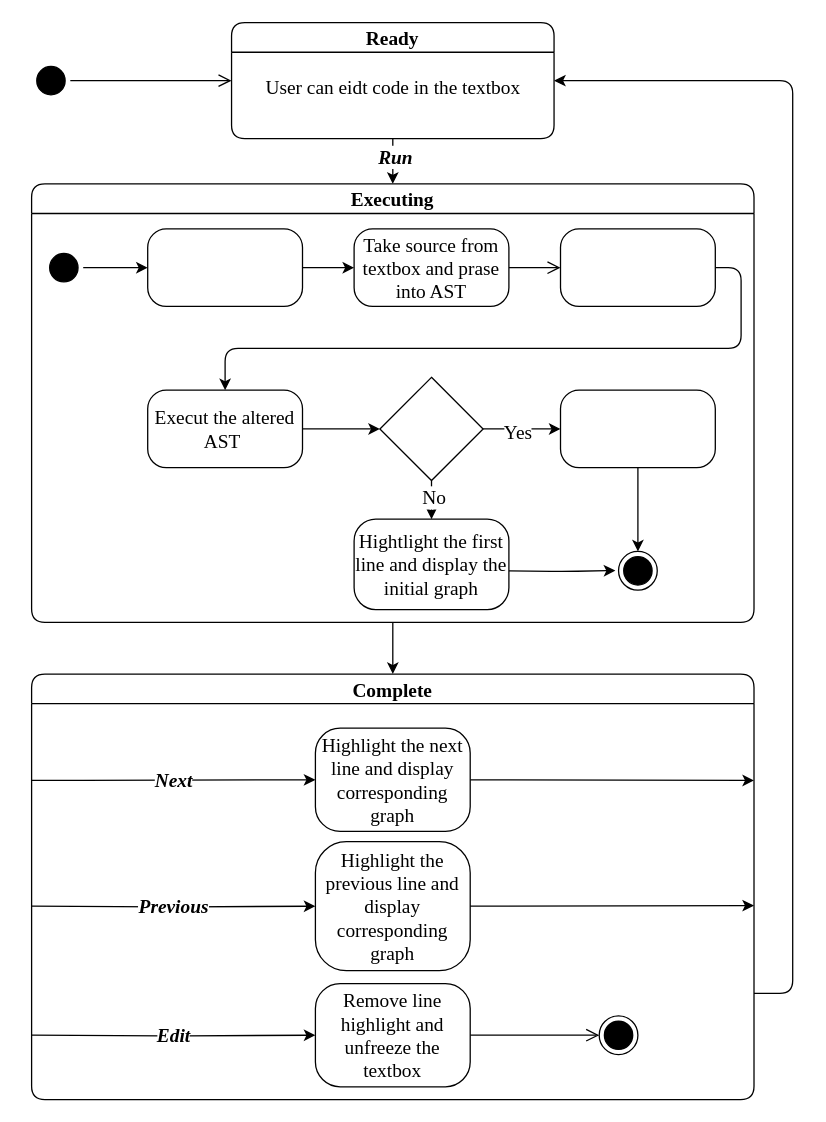
Image size: 826x1122. Some labels were removed from this diagram. Here are the shapes that lost their labels. From the top down, the centre of each, then its label:
[224,267]: Freeze the textbox
[637,267]: Insert statements into the AST
[431,428]: Error
[637,428]: Display the error message
